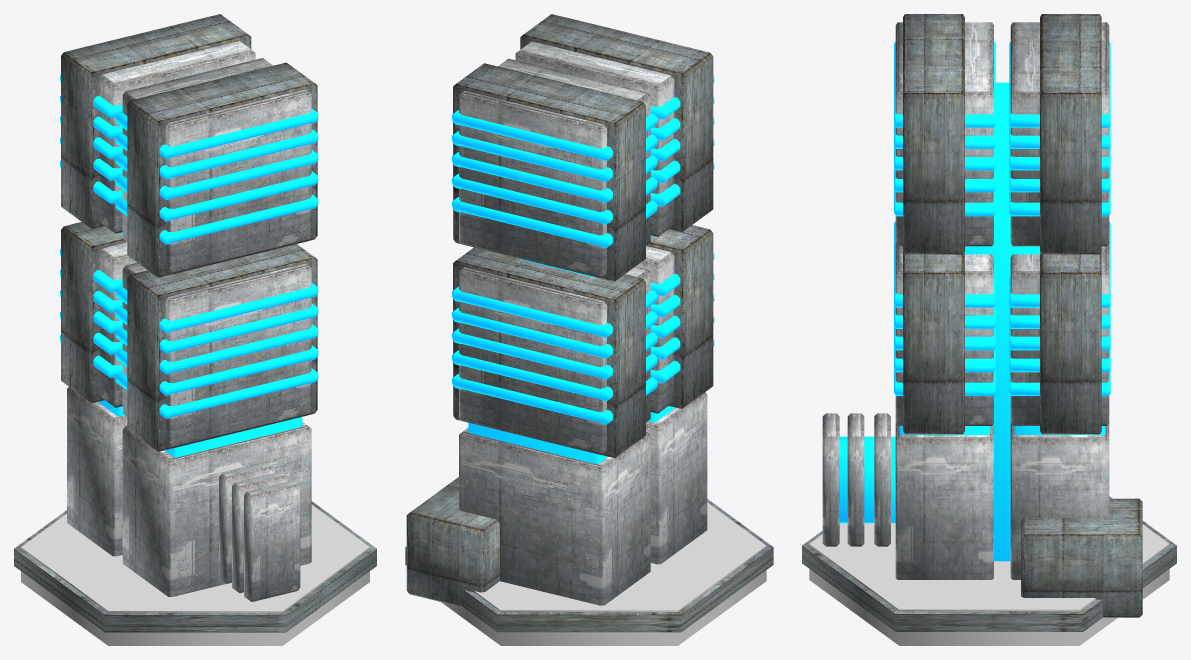
Rendered from residential02.fbx.
3 views of the same model, side by side, from view 1: azimuth 30°, elevation 25°; view 2: azimuth 150°, elevation 25°; view 3: azimuth 270°, elevation 25° (orthographic). The views are drawn at different scales.
Visible parts, largest first — view 1: residential02; view 2: residential02; view 3: residential02.
Boxes of the visible parts, <box> form: residential02: <box>14,14,376,645</box>; residential02: <box>405,14,773,645</box>; residential02: <box>802,14,1176,645</box>.
Size of the model in its own units: 380 by 681 by 439.
5 materials, 3 textured.
